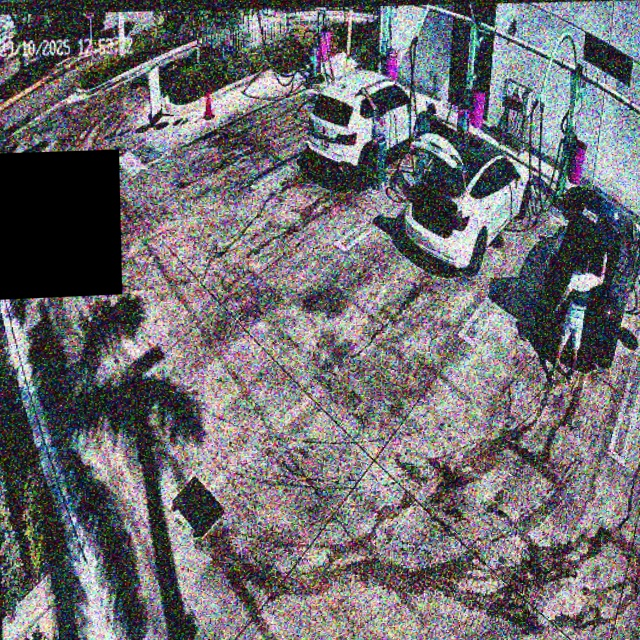Car: (397, 131, 527, 276), (303, 64, 422, 188)
